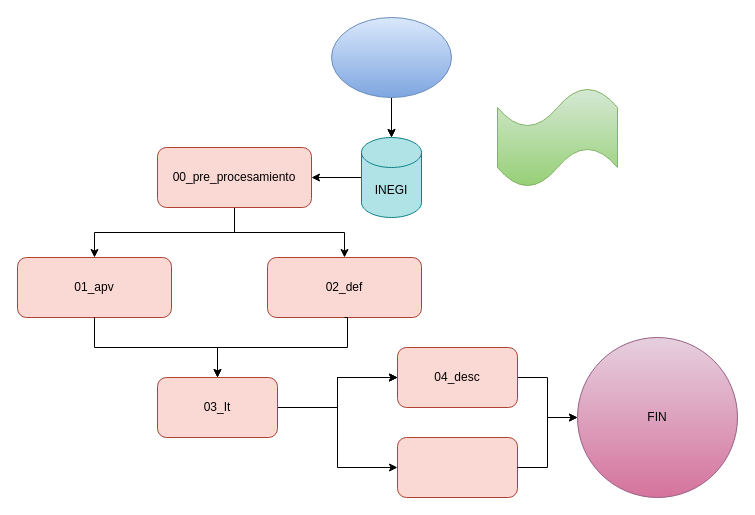
Some shapes in this 755 by 515 pixel diagram are drawn without their labels. The shapes that lost their labels are listed below. From the top down, each one's box as (x1, y1, x2, y2) in pixels, then its label:
(330, 16, 452, 98): INICIO
(496, 86, 618, 188): Informe
(396, 436, 518, 498): 05_dm
